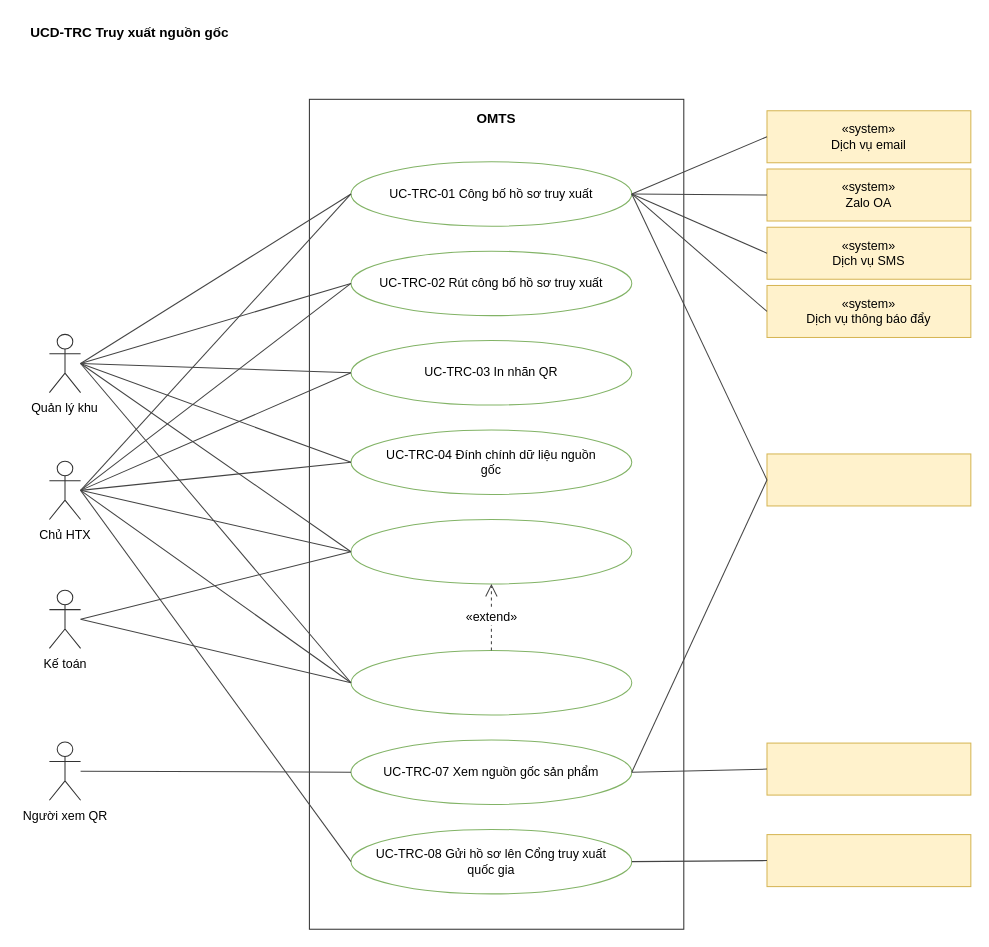
Some shapes in this 989 by 947 pixel diagram are drawn without their labels. The centre of each missing label's shape, as x and y in pixels:
"UC-TRC-05 Truy xuất lô" goes at pixel 491 551.
"UC-TRC-06 Xuất báo cáo truy xuất" goes at pixel 491 682.
"«system» Cổng truy xuất quốc gia" goes at pixel 868 860.
"«system» Dịch vụ lưu trữ đám mây" goes at pixel 868 479.
"«system» Google Maps" goes at pixel 868 768.
